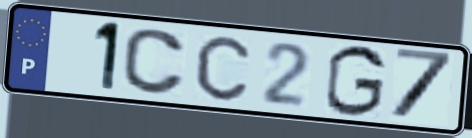1: (88, 19, 124, 96)
2: (259, 40, 316, 110)
7: (391, 45, 456, 125)
C: (120, 26, 189, 98), (194, 33, 253, 103)
G: (323, 43, 389, 119)
